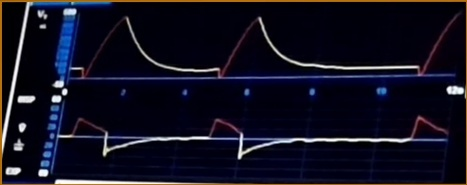Flow: (64, 103, 447, 174)
Leakage Volume: (68, 15, 459, 83)
